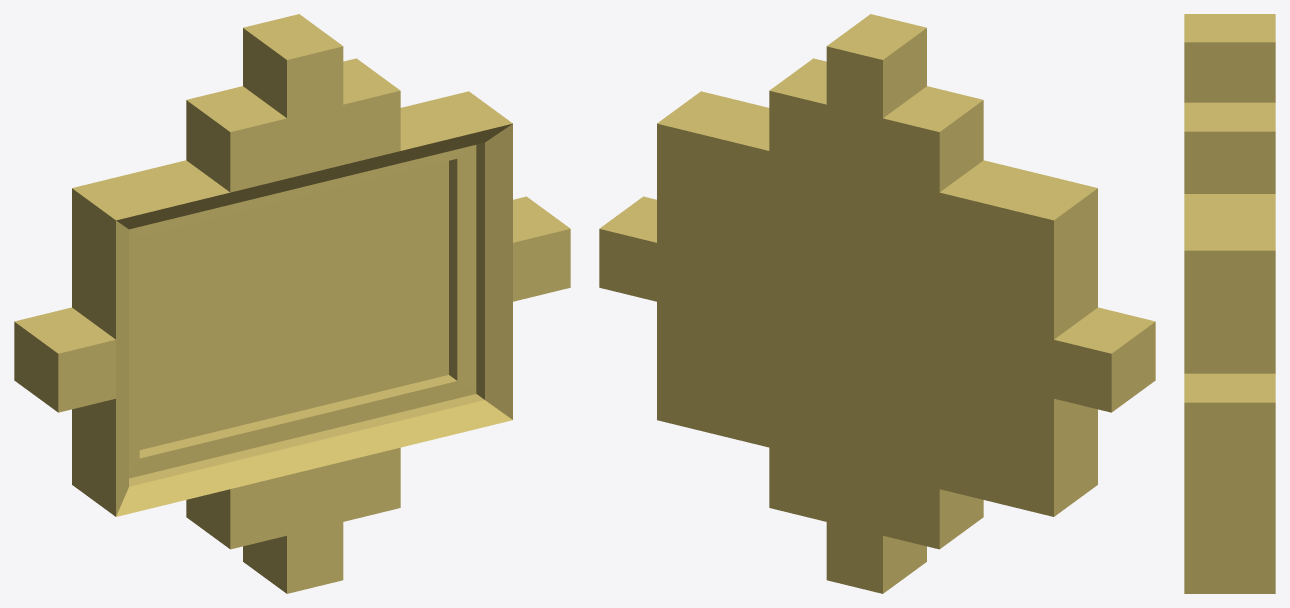
The model's file is Frame3.fbx.
The picture shows the model from 3 angles, left to right: view 1: azimuth 30°, elevation 25°; view 2: azimuth 150°, elevation 25°; view 3: azimuth 270°, elevation 25°; orthographic projection. The views are drawn at different scales.
Visible parts, largest first — view 1: Frame3; view 2: Frame3; view 3: Frame3.
Boxes of the visible parts, box(x1,y1,x2,y2) form: Frame3: box(14, 14, 570, 593); Frame3: box(599, 14, 1155, 593); Frame3: box(1184, 14, 1275, 593).
Bounding box in the file's own units: 2 × 1.99 × 0.298.
